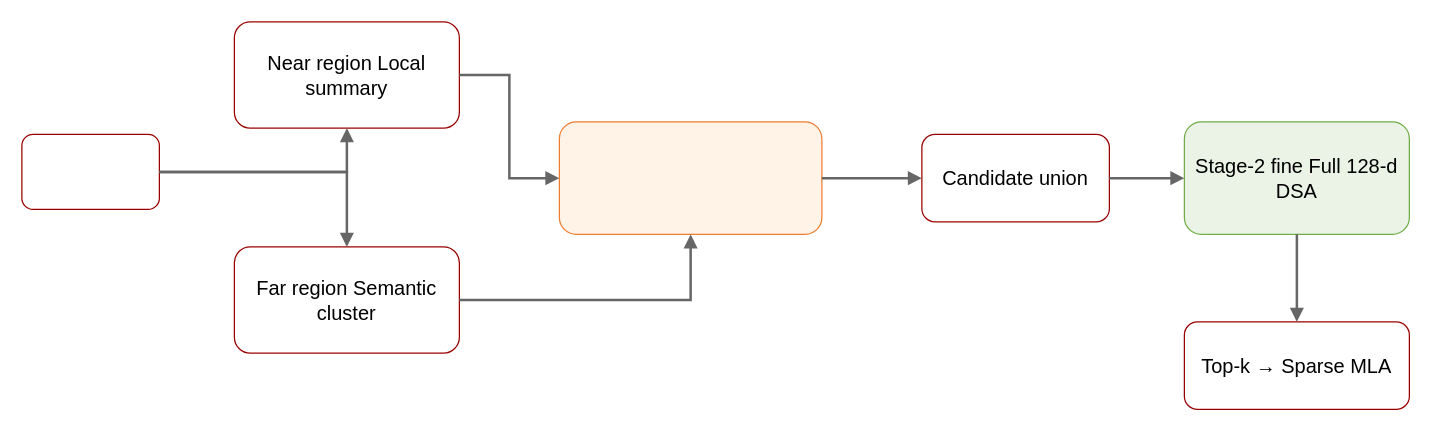
Some shapes in this 1431 by 431 pixel diagram are drawn without their labels. The centre of each missing label's shape, as x and y in pixels:
Query: the point at 90,171
Stage-1 coarse Selected subspace: the point at 690,177
